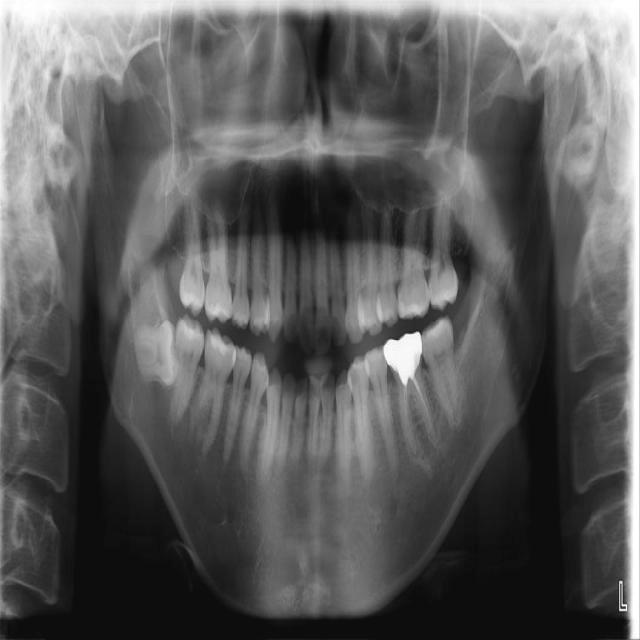Crown: (383, 331, 423, 375)
Filling: (209, 330, 235, 358)
Root Canal Treatment: (414, 381, 434, 438), (403, 389, 411, 431)
impacted tooth: (131, 319, 176, 385)
